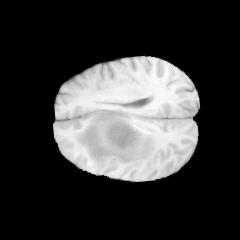glioma: (73, 108, 155, 164)
